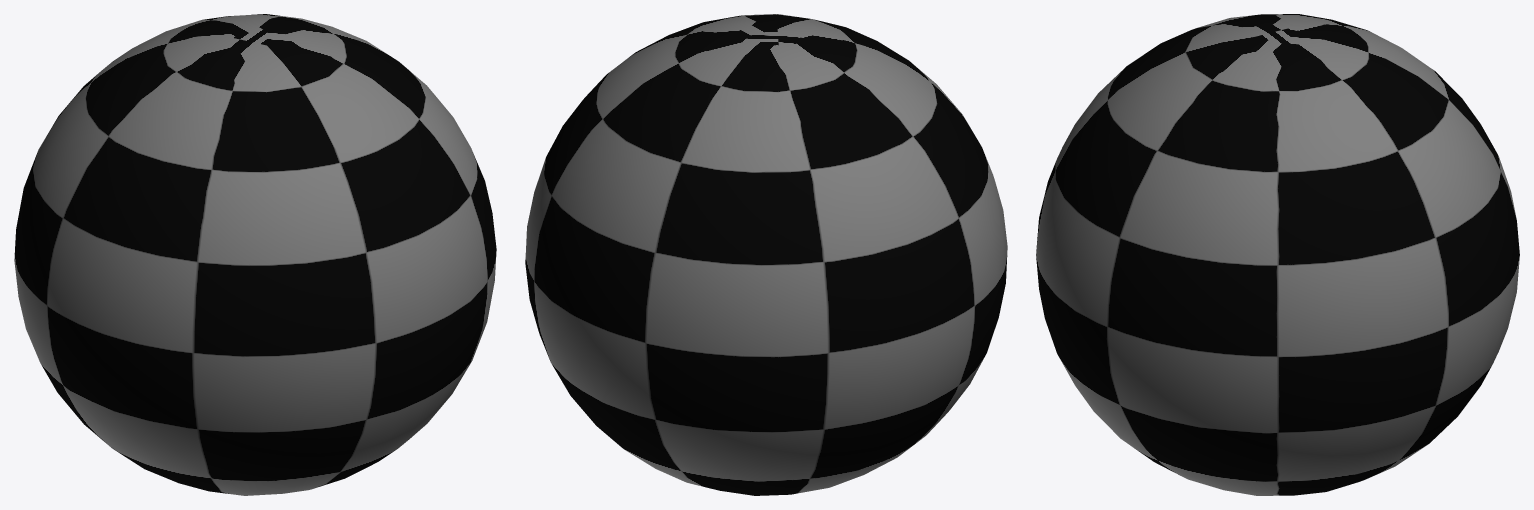
Rendered from planet.gltf.
3 renders of one model, left to right at view 1: azimuth 30°, elevation 25°; view 2: azimuth 150°, elevation 25°; view 3: azimuth 270°, elevation 25°, orthographic.
Visible parts, largest first — view 1: planet; view 2: planet; view 3: planet.
Boxes of the visible parts, x1,y1,x2,y2 form: planet: (14, 14, 496, 495); planet: (525, 14, 1007, 495); planet: (1036, 14, 1519, 495).
Size of the model in its own units: 9968746 by 9956939 by 1e+07.
Materials: 1 (1 with a texture image).
